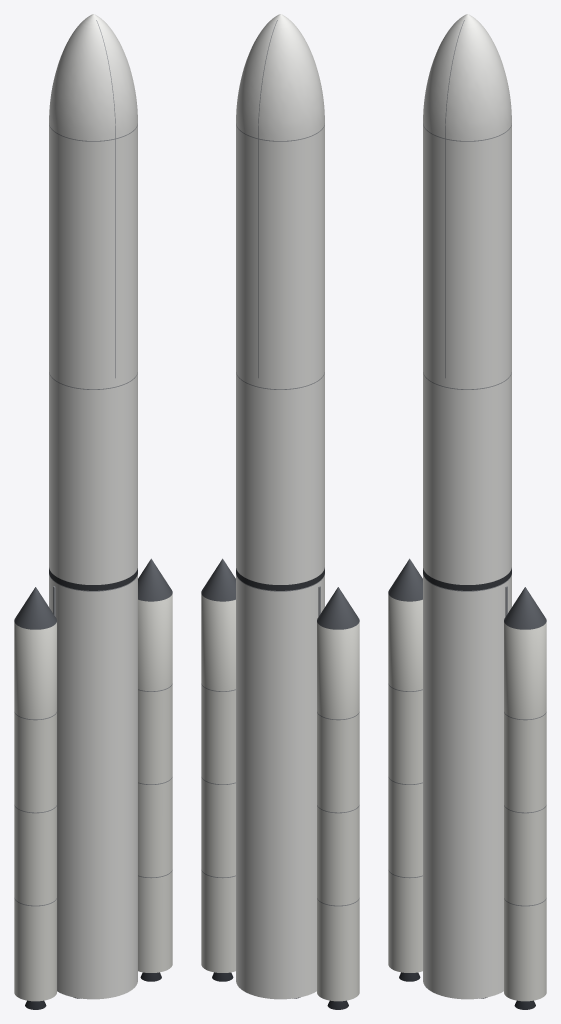
3 views of the same model, side by side, from view 1: azimuth 30°, elevation 25°; view 2: azimuth 150°, elevation 25°; view 3: azimuth 330°, elevation 25° (orthographic).
Parts seen in each view (by area): view 1: h3; view 2: h3; view 3: h3.
Part boxes in pixels (x1,y1,x2,y2): h3: [14, 14, 172, 1009]; h3: [201, 14, 359, 1009]; h3: [388, 14, 546, 1009].
Size of the model in its own units: 10.3 by 63 by 5.21.
1 material, 1 textured.
